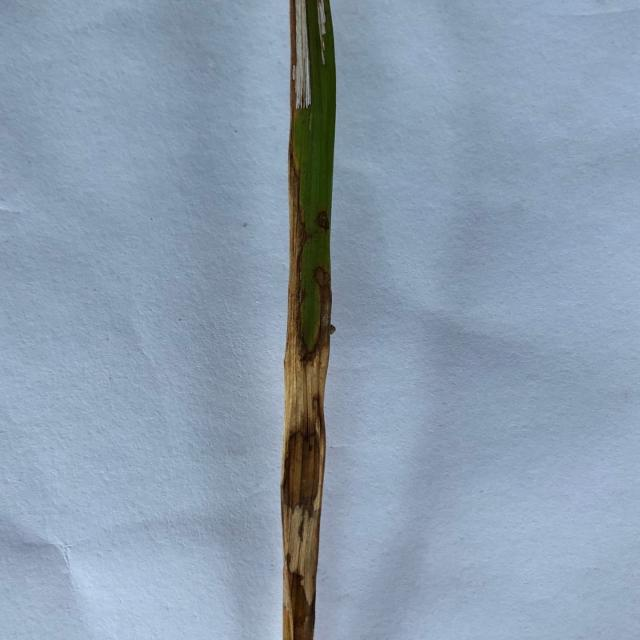leaf blight: (278, 332, 332, 640), (289, 0, 318, 111), (288, 118, 302, 333), (311, 265, 334, 331), (317, 204, 333, 236)
